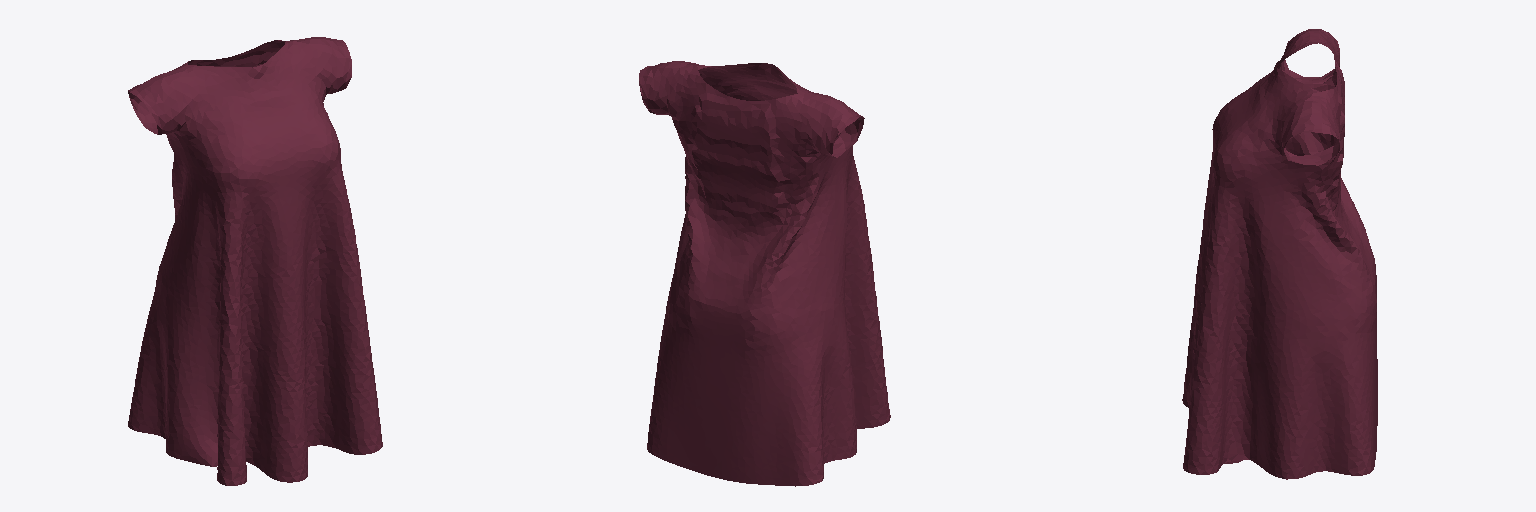
3 renders of one model, left to right at view 1: azimuth 30°, elevation 25°; view 2: azimuth 150°, elevation 25°; view 3: azimuth 270°, elevation 25°, orthographic.
Parts seen in each view (by area): view 1: polySurface2 polySurface3 polySurface1; view 2: polySurface2 polySurface3 polySurface1; view 3: polySurface2 polySurface3 polySurface1.
Part boxes in pixels (x1,y1,x2,y2): polySurface2 polySurface3 polySurface1: (128,37,382,485); polySurface2 polySurface3 polySurface1: (639,61,890,486); polySurface2 polySurface3 polySurface1: (1182,29,1377,479).
Size of the model in its own units: 5.16 by 8.82 by 4.09.
6 materials, 1 textured.